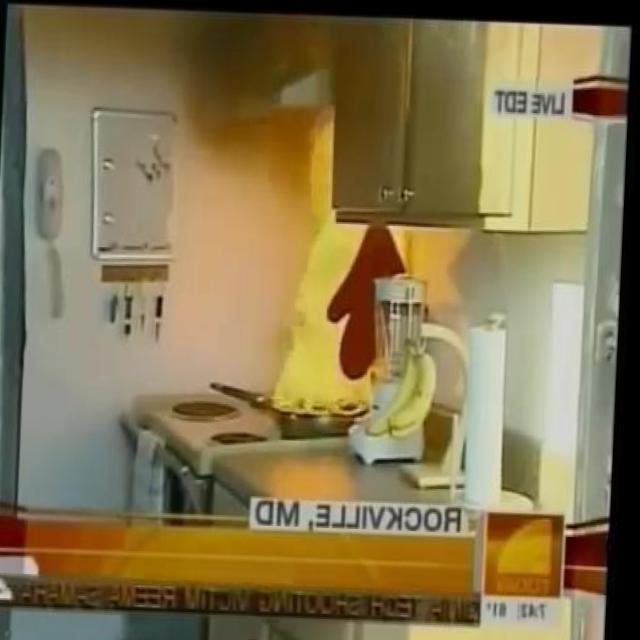fire: (268, 207, 376, 419)
